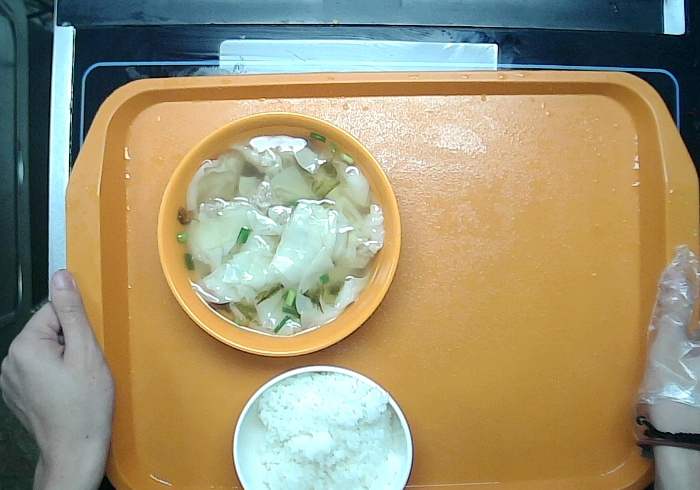NLDX-Fan_Wan: (229, 363, 416, 490)
NLDX-Hun_Tun_Wan: (156, 111, 403, 360)
